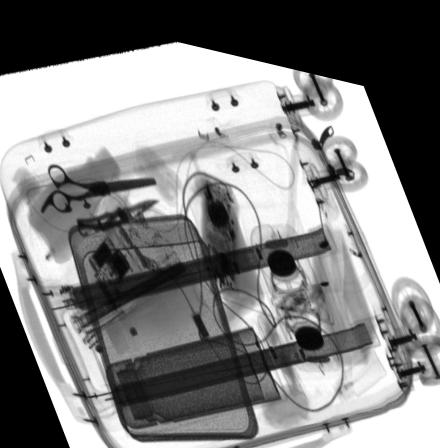Knife: (75, 193, 159, 233)
Scissors: (39, 160, 157, 214)
